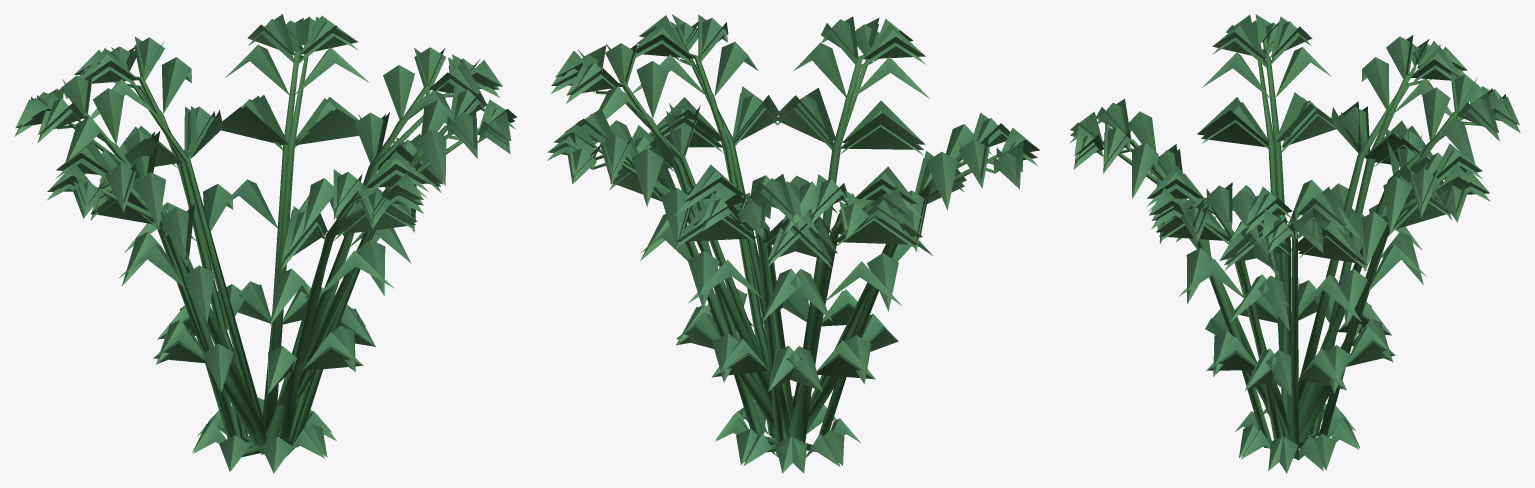
File: Fern.glb
3 views of the same model, side by side, from view 1: azimuth 30°, elevation 25°; view 2: azimuth 150°, elevation 25°; view 3: azimuth 270°, elevation 25° (orthographic). The views are drawn at different scales.
Parts seen in each view (by area): view 1: Fern_L0, Fern_L2, Fern_L1; view 2: Fern_L0, Fern_L1, Fern_L2; view 3: Fern_L0, Fern_L1, Fern_L2.
Part boxes in pixels (box(x1,y1,x2,y2)): Fern_L0: box(14, 19, 515, 473); Fern_L2: box(21, 16, 517, 455); Fern_L1: box(15, 14, 514, 447); Fern_L0: box(547, 18, 1038, 473); Fern_L1: box(548, 14, 1037, 439); Fern_L2: box(554, 14, 1039, 422); Fern_L0: box(1069, 21, 1520, 473); Fern_L1: box(1070, 16, 1519, 448); Fern_L2: box(1070, 14, 1505, 440).
Size of the model in its own units: 1 by 0.7511 by 0.9.
